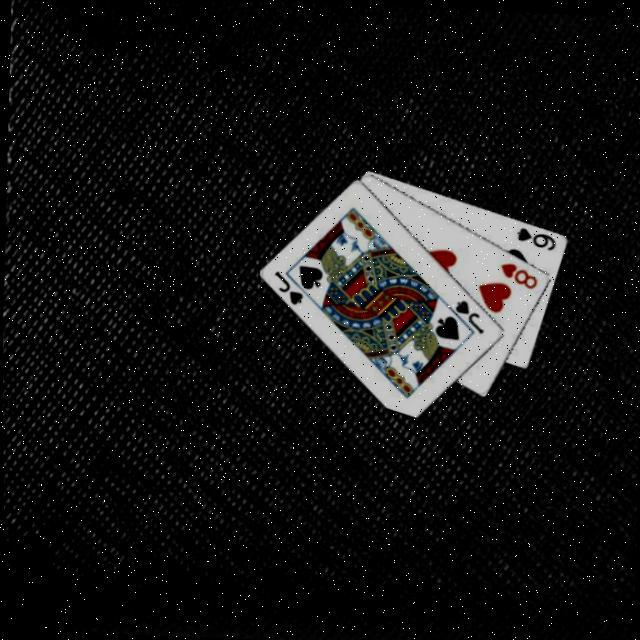6S: (512, 223, 557, 253)
8H: (496, 260, 539, 291)
JS: (450, 296, 486, 337), (268, 269, 305, 308)
